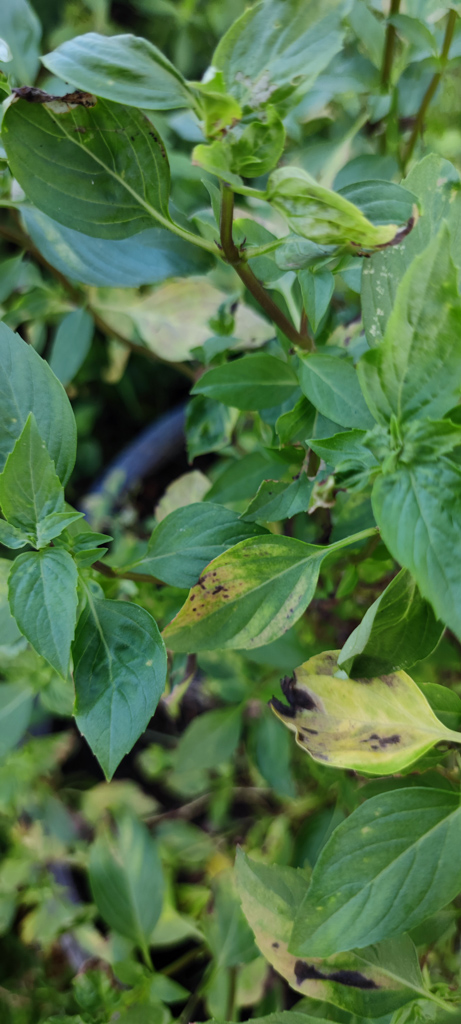Pepper yellow leaf: (262, 652, 458, 784), (163, 541, 276, 641)
Ragged Stunt Disease: (261, 155, 418, 273), (231, 105, 289, 175)
